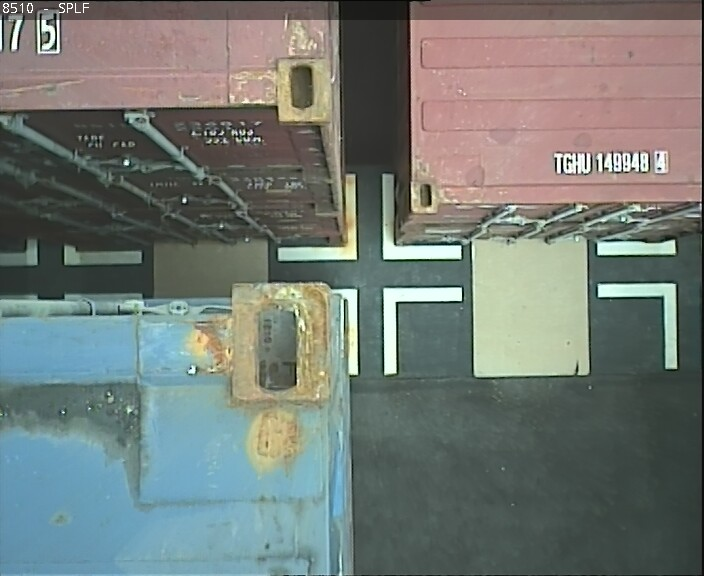groundmarker_1: (275, 173, 462, 262), (273, 283, 460, 372), (596, 230, 676, 365)
